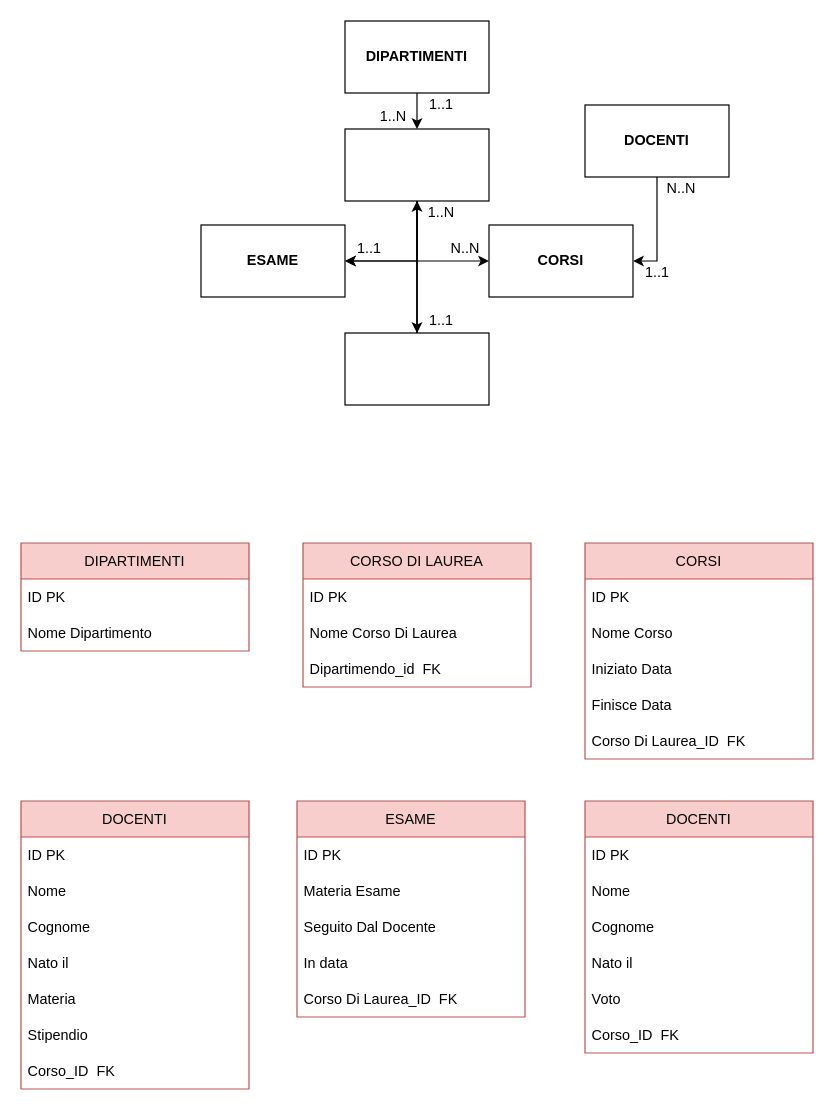
Some shapes in this 834 by 1110 pixel diagram are drawn without their labels. Here are the shapes that lost their labels. From the top down, the centre of each, then its label:
pixel 416 164: CORSI DI LAUREA
pixel 416 368: STUDENTI
